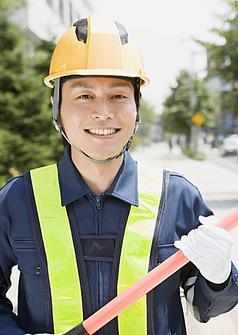helmet: (39, 10, 154, 164)
